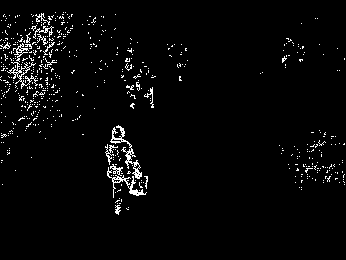person: (103, 125, 150, 217)
